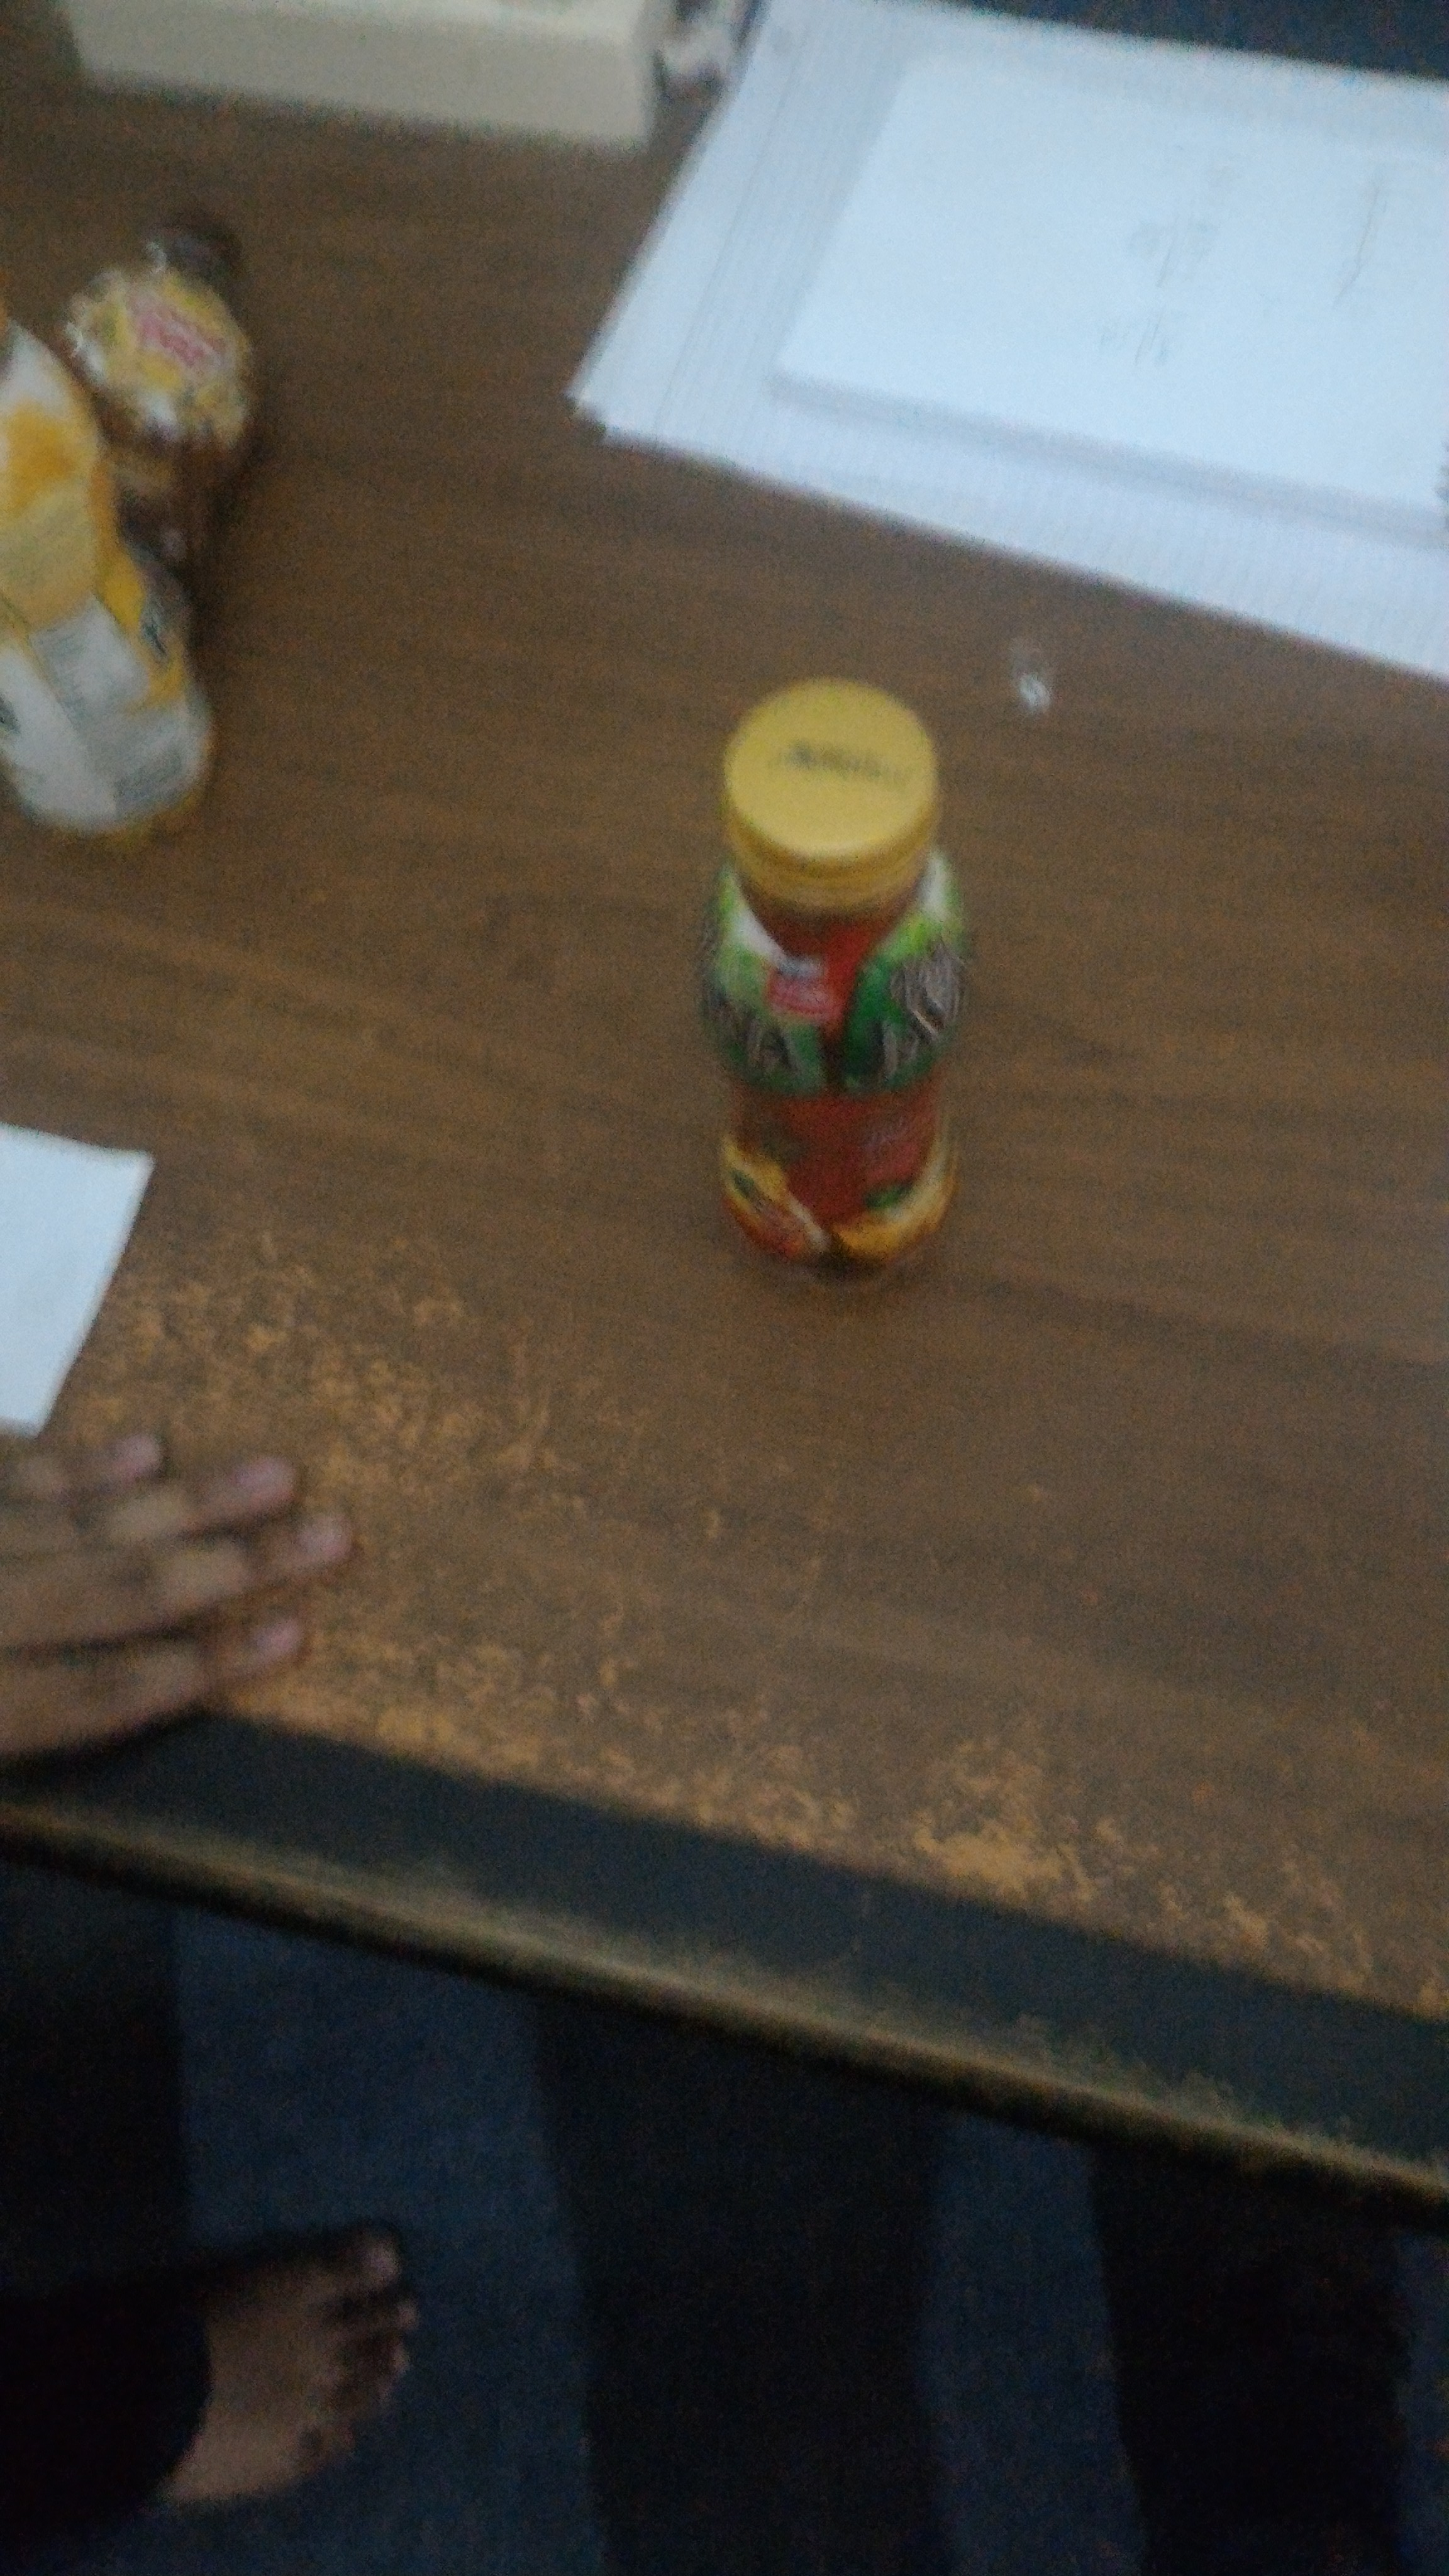botol: (692, 672, 973, 1276), (704, 672, 973, 1276), (704, 672, 964, 1276)
